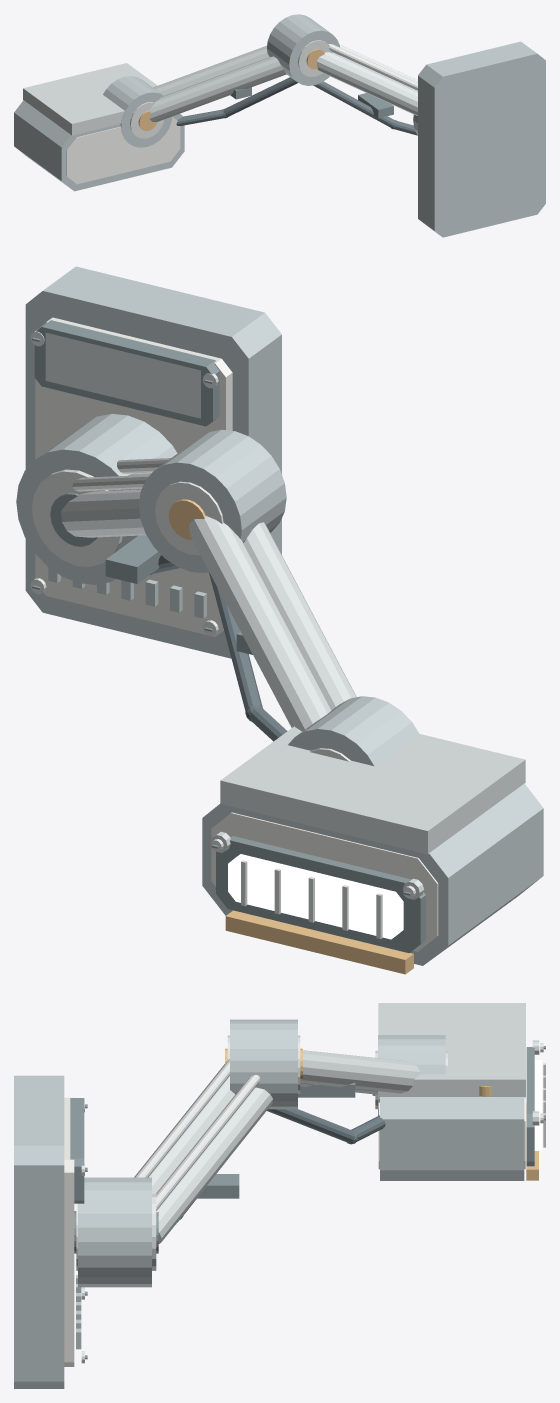
The model's file is task_light.glb.
3 views of the same model, one above another, from view 1: azimuth 30°, elevation 25°; view 2: azimuth 150°, elevation 25°; view 3: azimuth 270°, elevation 25° (orthographic). The views are drawn at different scales.
Visible parts, largest first — view 1: static__graphite, Arm_Assembly__steel, Lamp_Head__steel, Arm_Assembly__graphite, Lamp_Head__cream, Lamp_Head__graphite, Arm_Assembly__rubber, Arm_Assembly__satinsteel, Arm_Assembly__deep, Arm_Assembly__ochre; view 2: static__graphite, Lamp_Head__steel, Arm_Assembly__steel, Arm_Assembly__graphite, Lamp_Head__graphite, static__cream, Root_Pivot__graphite, static__task_nameplate, Lamp_Emitter__lamp, Lamp_Head__deep, Lamp_Head__cream, static__deep (+8 smaller); view 3: static__graphite, Lamp_Head__graphite, Lamp_Head__steel, Arm_Assembly__steel, Root_Pivot__graphite, Arm_Assembly__graphite, Arm_Assembly__satinsteel, static__cream, Arm_Assembly__rubber, Arm_Assembly__deep, static__deep, Lamp_Head__deep (+3 smaller).
Boxes of the visible parts, <box> form: static__graphite: <box>418,41,545,237</box>; Arm_Assembly__steel: <box>149,46,417,121</box>; Lamp_Head__steel: <box>23,63,157,135</box>; Arm_Assembly__graphite: <box>103,14,339,147</box>; Lamp_Head__cream: <box>66,117,180,184</box>; Lamp_Head__graphite: <box>14,100,184,191</box>; Arm_Assembly__rubber: <box>176,77,417,135</box>; Arm_Assembly__satinsteel: <box>130,40,417,138</box>; Arm_Assembly__deep: <box>230,87,393,118</box>; Arm_Assembly__ochre: <box>138,49,324,130</box>; static__graphite: <box>25,266,281,658</box>; Lamp_Head__steel: <box>211,726,525,899</box>; Arm_Assembly__steel: <box>61,473,356,731</box>; Arm_Assembly__graphite: <box>139,429,418,766</box>; Lamp_Head__graphite: <box>202,783,543,965</box>; static__cream: <box>35,317,232,636</box>; Root_Pivot__graphite: <box>16,414,177,584</box>; static__task_nameplate: <box>45,332,200,418</box>; Lamp_Emitter__lamp: <box>228,854,403,939</box>; Lamp_Head__deep: <box>211,836,425,952</box>; Lamp_Head__cream: <box>211,812,438,951</box>; static__deep: <box>32,320,219,631</box>; static__graphite: <box>14,1075,81,1388</box>; Lamp_Head__graphite: <box>380,1097,524,1180</box>; Lamp_Head__steel: <box>378,1003,539,1125</box>; Arm_Assembly__steel: <box>134,1050,420,1243</box>; Root_Pivot__graphite: <box>78,1177,151,1287</box>; Arm_Assembly__graphite: <box>230,1019,445,1115</box>; Arm_Assembly__satinsteel: <box>135,1035,447,1210</box>; static__cream: <box>64,1097,74,1366</box>; Arm_Assembly__rubber: <box>177,1109,385,1222</box>; Arm_Assembly__deep: <box>197,1082,355,1198</box>; static__deep: <box>70,1098,87,1359</box>; Lamp_Head__deep: <box>526,1046,545,1166</box>.
Bounding box in the file's own units: 0.945 × 0.417 × 0.7925.
